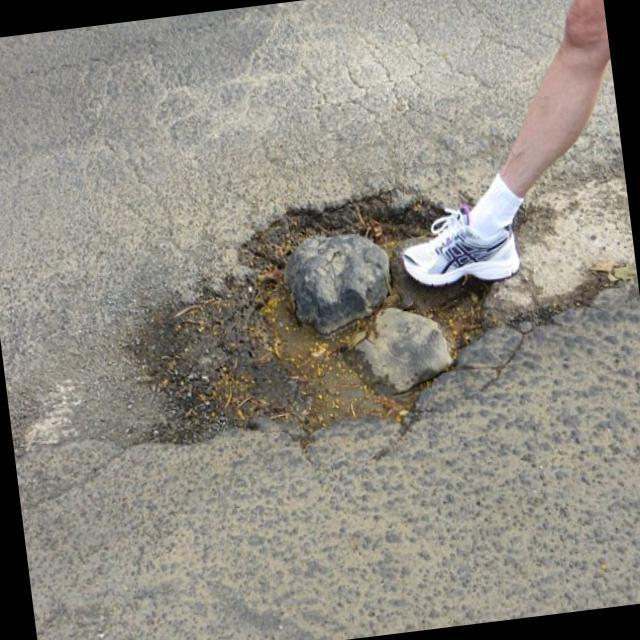Pothole: (121, 172, 533, 459)
